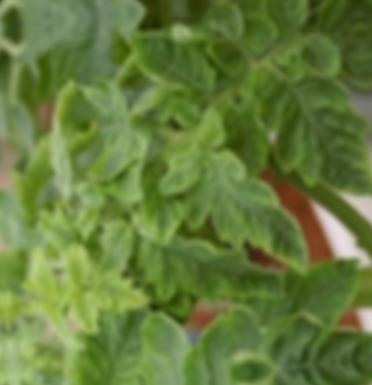Tomato leaf mosaic virus: (181, 120, 317, 285), (251, 55, 372, 216), (131, 222, 284, 316), (55, 291, 160, 385), (124, 21, 222, 104), (129, 161, 189, 256), (80, 115, 156, 188), (135, 306, 202, 385), (275, 318, 372, 369), (261, 0, 318, 41)
